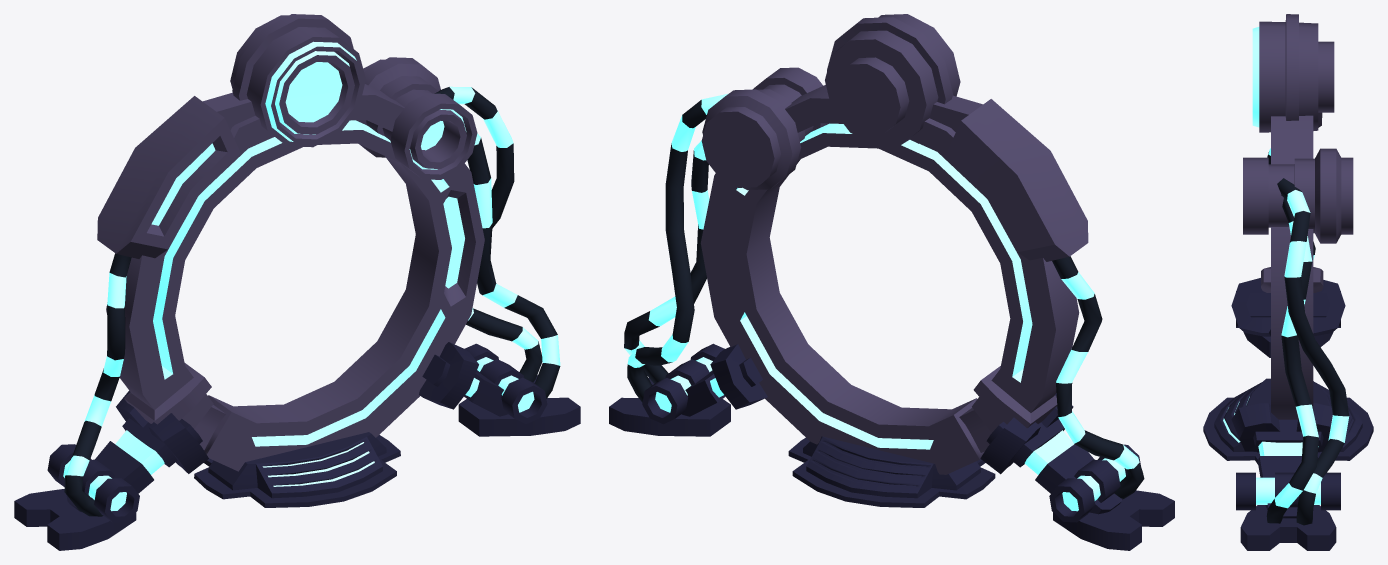
Rendered from Portal_NO_Texture.fbx.
3 views of the same model, side by side, from view 1: azimuth 30°, elevation 25°; view 2: azimuth 150°, elevation 25°; view 3: azimuth 270°, elevation 25° (orthographic). The views are drawn at different scales.
Parts seen in each view (by area): view 1: Circle, Cube.013, Circle.001, Vert; view 2: Circle, Cube.013, Circle.001, Vert; view 3: Cube.013, Circle.001, Vert, Circle.
Boxes of the visible parts, x1=… form: Circle: x1=97, y1=84, x2=484, y2=471; Cube.013: x1=14, y1=342, x2=580, y2=550; Circle.001: x1=230, y1=14, x2=477, y2=179; Vert: x1=64, y1=86, x2=560, y2=516; Circle: x1=700, y1=85, x2=1088, y2=474; Cube.013: x1=609, y1=343, x2=1174, y2=550; Circle.001: x1=701, y1=14, x2=960, y2=190; Vert: x1=624, y1=93, x2=1144, y2=499; Cube.013: x1=1203, y1=278, x2=1373, y2=550; Circle.001: x1=1243, y1=14, x2=1353, y2=243; Vert: x1=1266, y1=148, x2=1349, y2=525; Circle: x1=1261, y1=112, x2=1323, y2=419.
Size of the model in its own units: 833 by 690 by 257.
